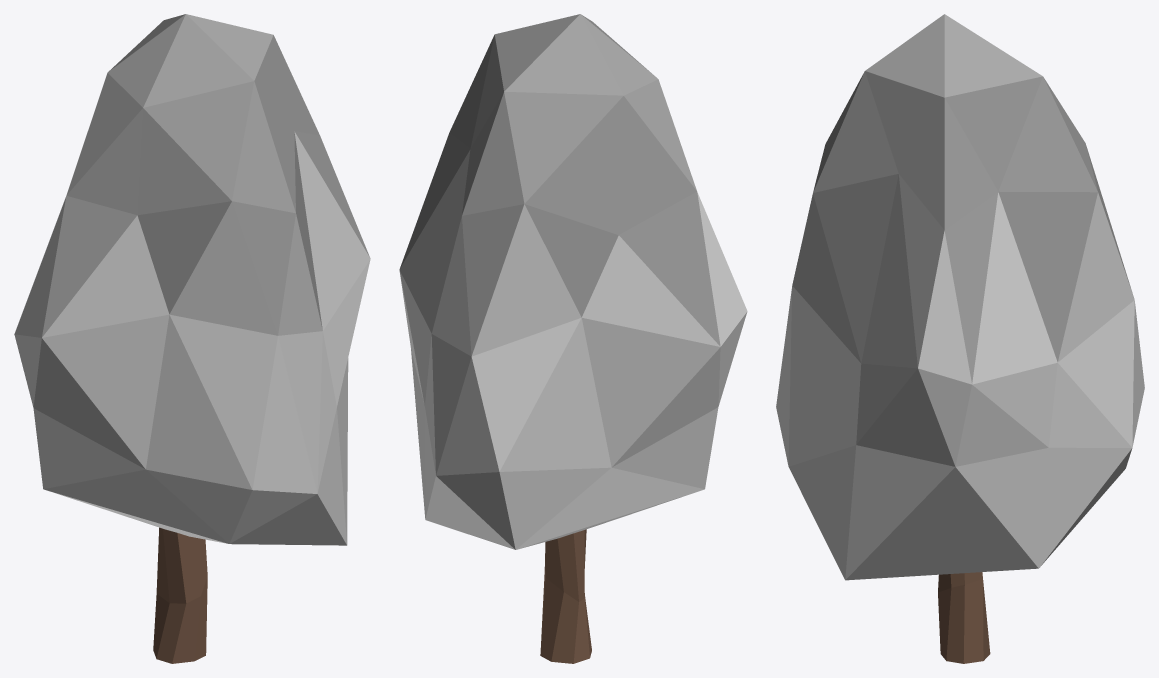
The model's file is Tree_59_White.fbx.
3 views of the same model, side by side, from view 1: azimuth 30°, elevation 25°; view 2: azimuth 150°, elevation 25°; view 3: azimuth 270°, elevation 25° (orthographic). The views are drawn at different scales.
Parts seen in each view (by area): view 1: Tree_59_White_Part_1, Tree_59_White_Part_2; view 2: Tree_59_White_Part_1, Tree_59_White_Part_2; view 3: Tree_59_White_Part_1, Tree_59_White_Part_2.
Boxes of the visible parts, x1,y1,x2,y2 form: Tree_59_White_Part_1: [14, 14, 370, 545]; Tree_59_White_Part_2: [153, 527, 207, 663]; Tree_59_White_Part_1: [399, 14, 747, 549]; Tree_59_White_Part_2: [540, 529, 591, 663]; Tree_59_White_Part_1: [776, 14, 1144, 580]; Tree_59_White_Part_2: [938, 572, 990, 663].
Bounding box in the file's own units: 425 × 800 × 420.
